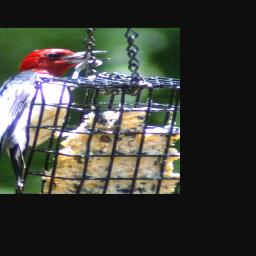Woodpecker: (0, 47, 114, 194)
